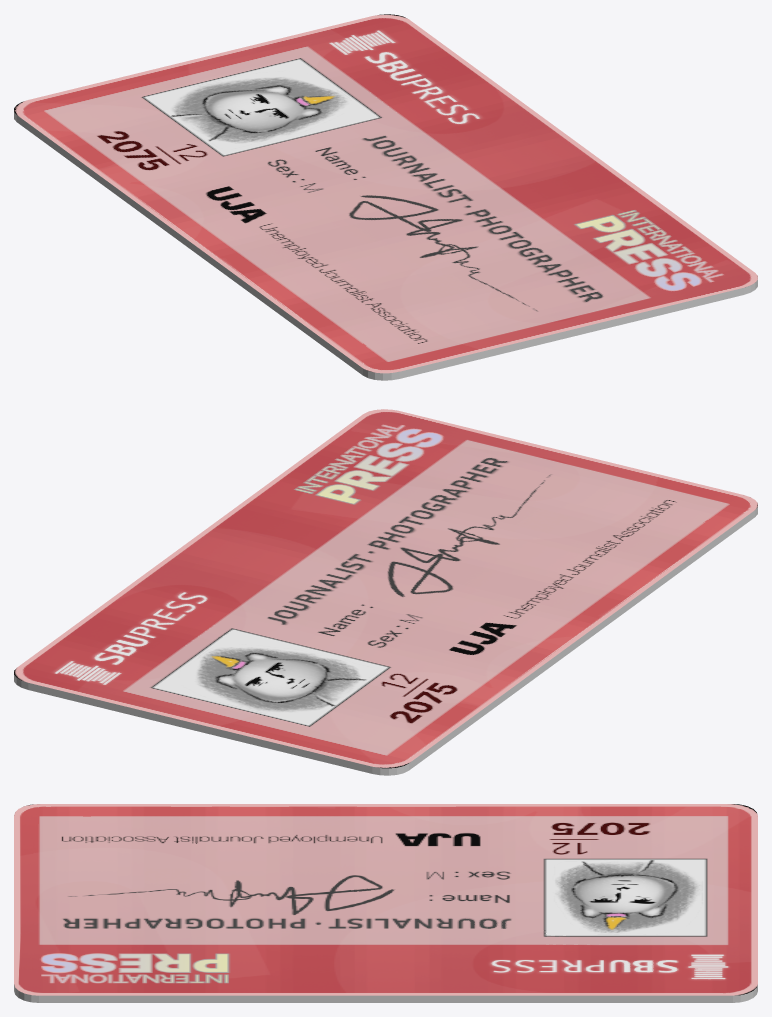
File: CatJournalistLicense.fbx
3 renders of one model, top to bottom at view 1: azimuth 30°, elevation 25°; view 2: azimuth 150°, elevation 25°; view 3: azimuth 270°, elevation 25°, orthographic.
Visible parts, largest first — view 1: Cube.001; view 2: Cube.001; view 3: Cube.001.
Boxes of the visible parts, x1,y1,x2,y2 form: Cube.001: [14, 14, 757, 380]; Cube.001: [14, 409, 757, 775]; Cube.001: [14, 804, 757, 1002].
Size of the model in its own units: 107 by 1.88 by 175.
2 materials, 1 textured.
